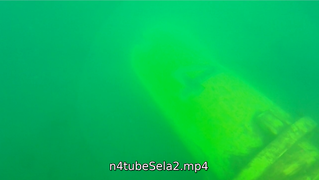4: (173, 62, 219, 97)
pipe: (128, 19, 319, 180)
